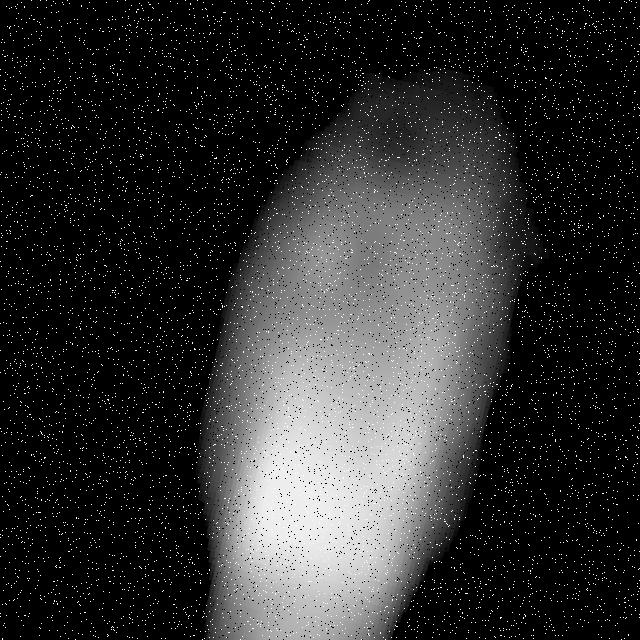person: (167, 92, 575, 640)
